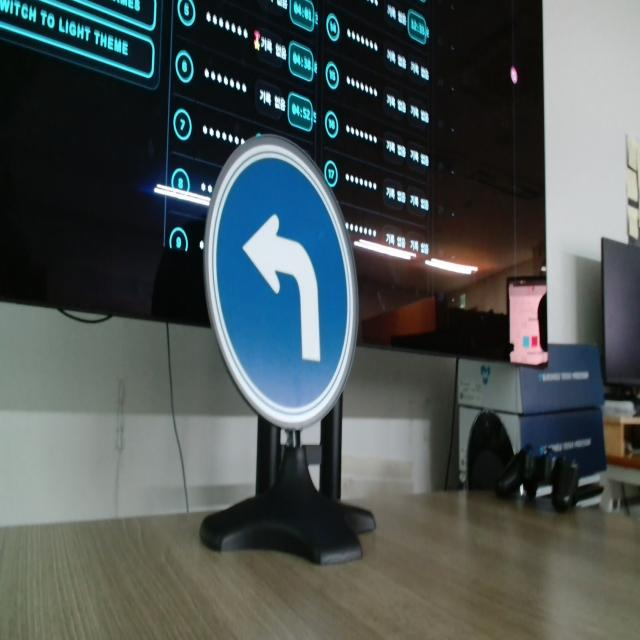left_direction: (210, 130, 362, 438)
